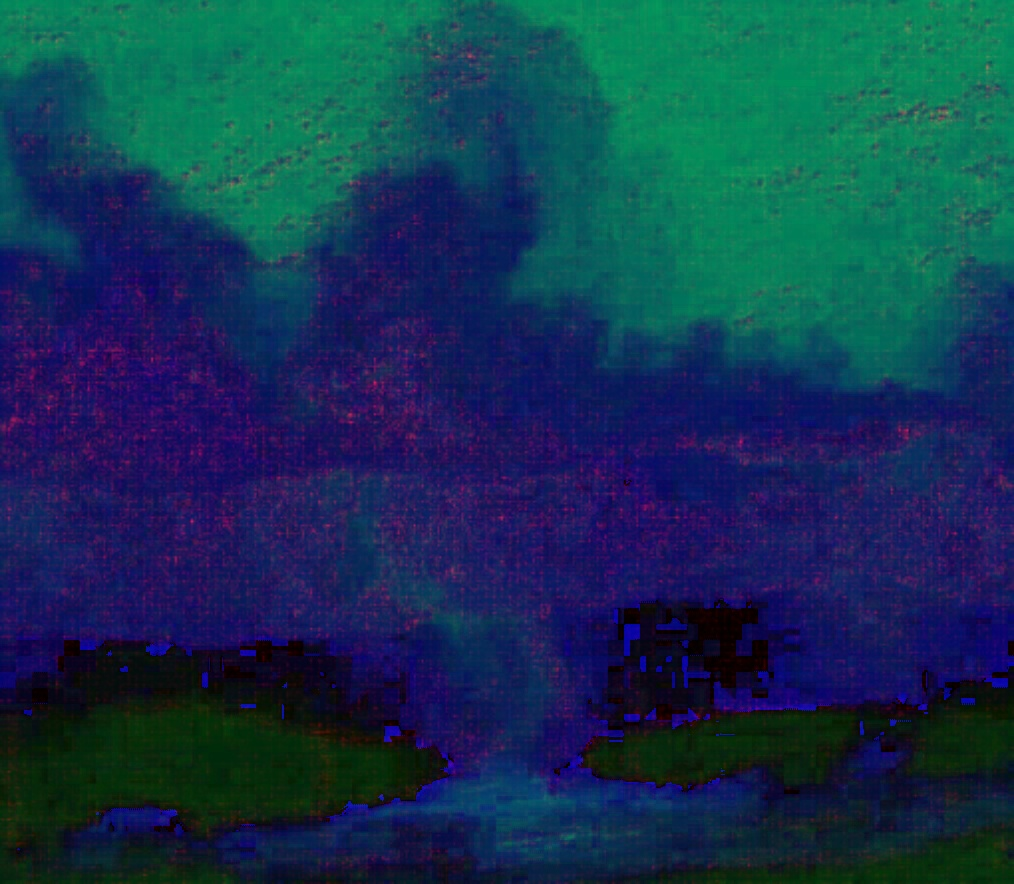rip_current: (232, 38, 652, 737)
